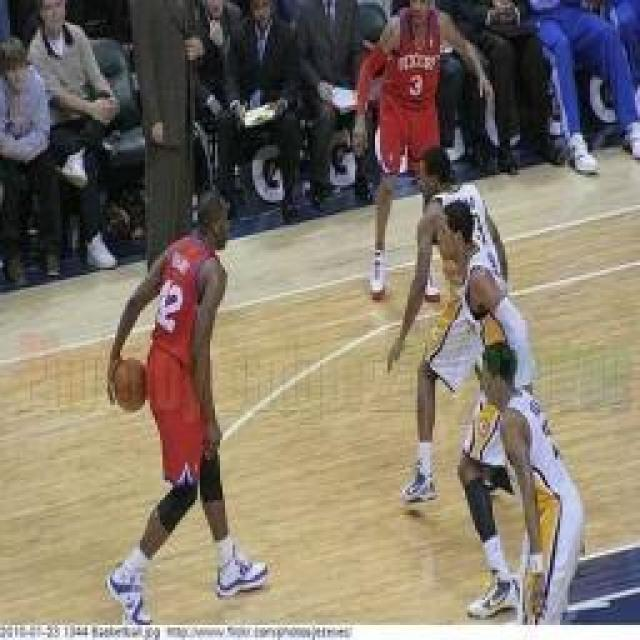ball: (108, 356, 148, 414)
person: (100, 189, 272, 629), (382, 142, 510, 506), (351, 0, 494, 300), (438, 196, 538, 619), (479, 337, 591, 625)
